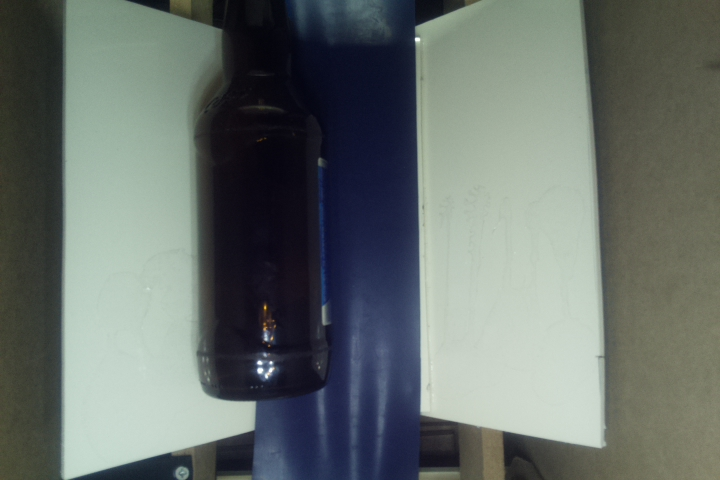makju: (195, 1, 328, 407)
